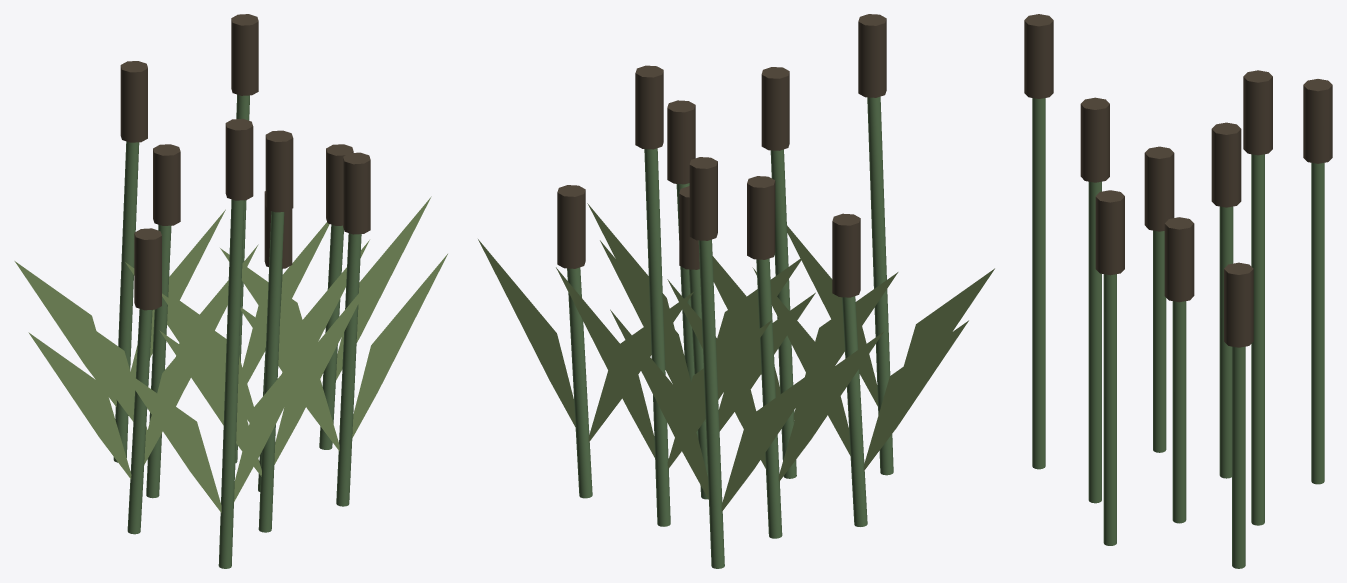
The model's file is reeds.glb.
3 views of the same model, side by side, from view 1: azimuth 30°, elevation 25°; view 2: azimuth 150°, elevation 25°; view 3: azimuth 270°, elevation 25° (orthographic). The views are drawn at different scales.
Visible parts, largest first — view 1: reeds_leaf_light, reeds_leaf, reeds_wood_dark; view 2: reeds_leaf_light, reeds_leaf, reeds_wood_dark; view 3: reeds_leaf, reeds_wood_dark.
Part boxes in pixels (left/top/right/bottom): reeds_leaf_light: left=14, top=196, right=447, bottom=512; reeds_leaf: left=113, top=94, right=361, bottom=568; reeds_wood_dark: left=120, top=14, right=370, bottom=310; reeds_leaf_light: left=478, top=203, right=994, bottom=511; reeds_leaf: left=567, top=96, right=893, bottom=568; reeds_wood_dark: left=557, top=14, right=886, bottom=297; reeds_leaf: left=1032, top=98, right=1324, bottom=568; reeds_wood_dark: left=1024, top=14, right=1332, bottom=347.
Size of the model in its own units: 1.25 by 1.19 by 0.7312.
